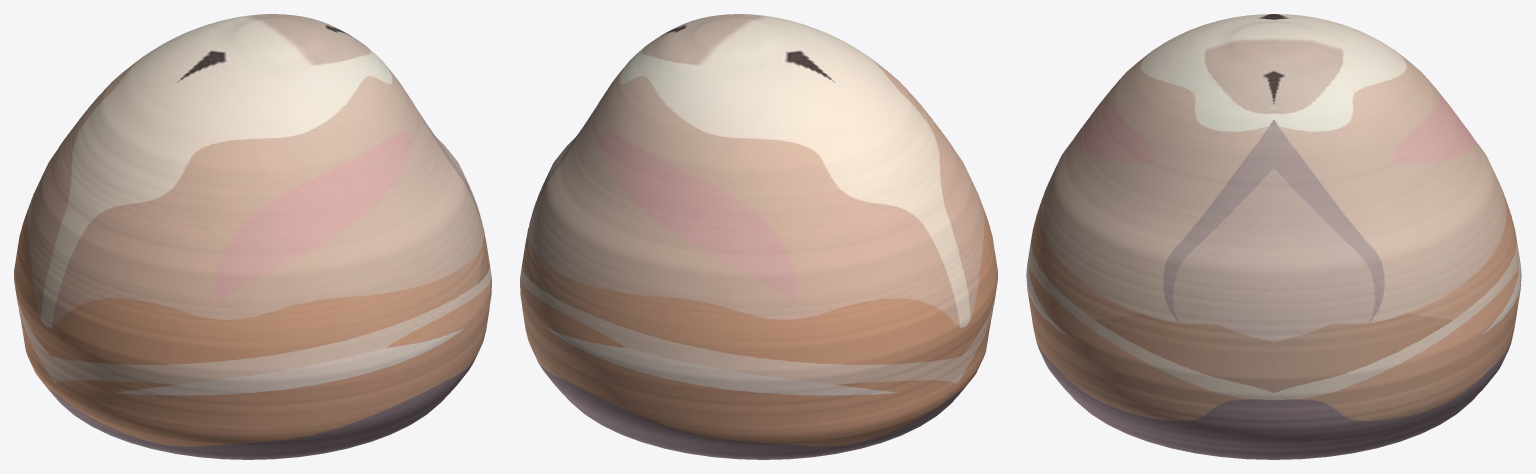
Rendered from pale_rock_dome.glb.
3 renders of one model, left to right at view 1: azimuth 30°, elevation 25°; view 2: azimuth 150°, elevation 25°; view 3: azimuth 270°, elevation 25°, orthographic. The views are drawn at different scales.
Visible parts, largest first — view 1: pale_rock_dome; view 2: pale_rock_dome; view 3: pale_rock_dome.
Boxes of the visible parts, bbox=[...] form: pale_rock_dome: bbox=[14, 14, 491, 459]; pale_rock_dome: bbox=[520, 14, 997, 459]; pale_rock_dome: bbox=[1026, 14, 1521, 459].
Bounding box in the file's own units: 1 × 0.8341 × 1.
Materials: 1 (1 with a texture image).
